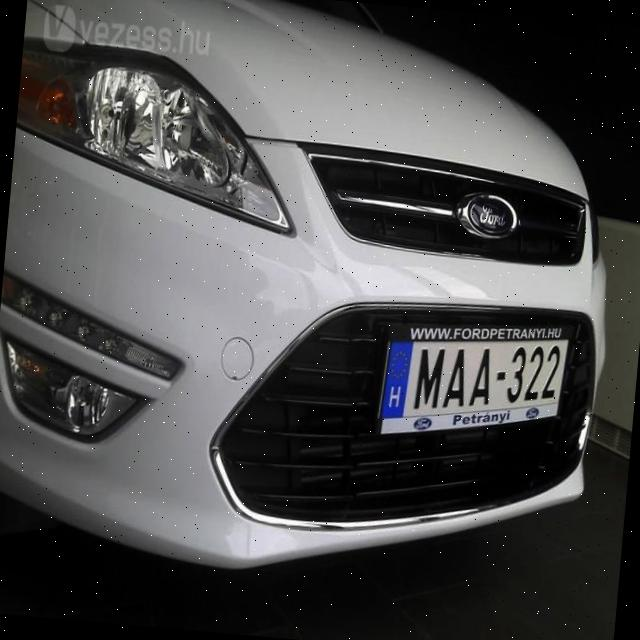licence: (378, 310, 572, 442)
